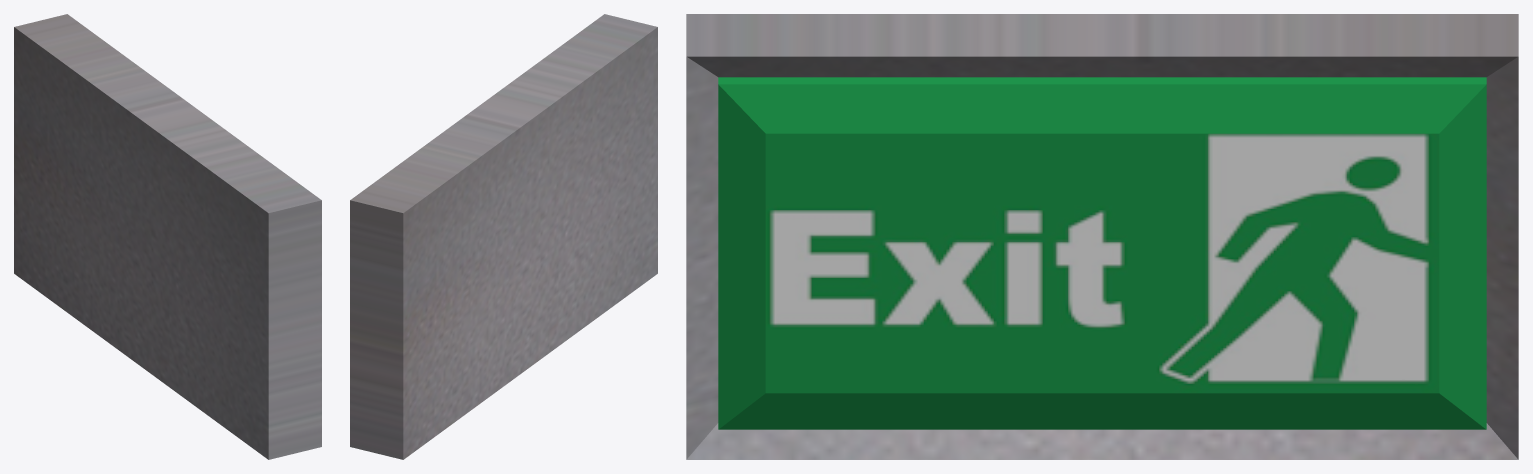
File: Exit.fbx
3 views of the same model, side by side, from view 1: azimuth 30°, elevation 25°; view 2: azimuth 150°, elevation 25°; view 3: azimuth 270°, elevation 25° (orthographic). The views are drawn at different scales.
Visible parts, largest first — view 1: Exit; view 2: Exit; view 3: Exit.
Boxes of the visible parts, bbox=[...] form: Exit: bbox=[14, 14, 321, 459]; Exit: bbox=[350, 14, 657, 459]; Exit: bbox=[686, 14, 1518, 459].
Size of the model in its own units: 0.5078 by 2 by 3.74.
Materials: 2 (2 with a texture image).
